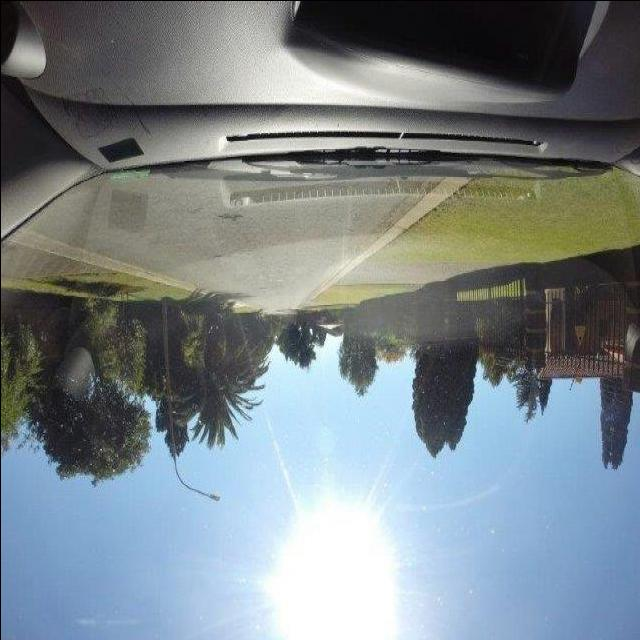lubang: (211, 205, 246, 223)
